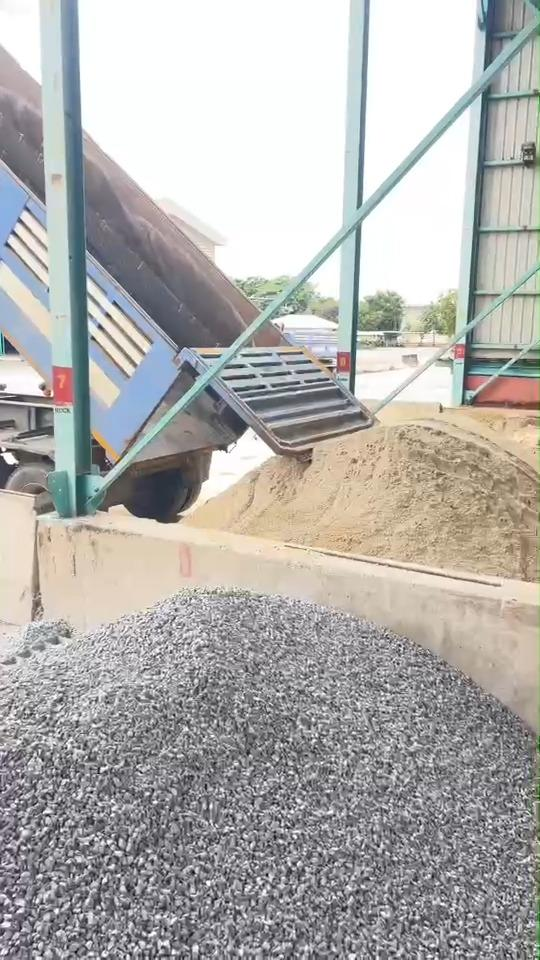gravel: (0, 591, 534, 959), (0, 620, 72, 663)
sand: (185, 421, 537, 580), (447, 417, 539, 470)
